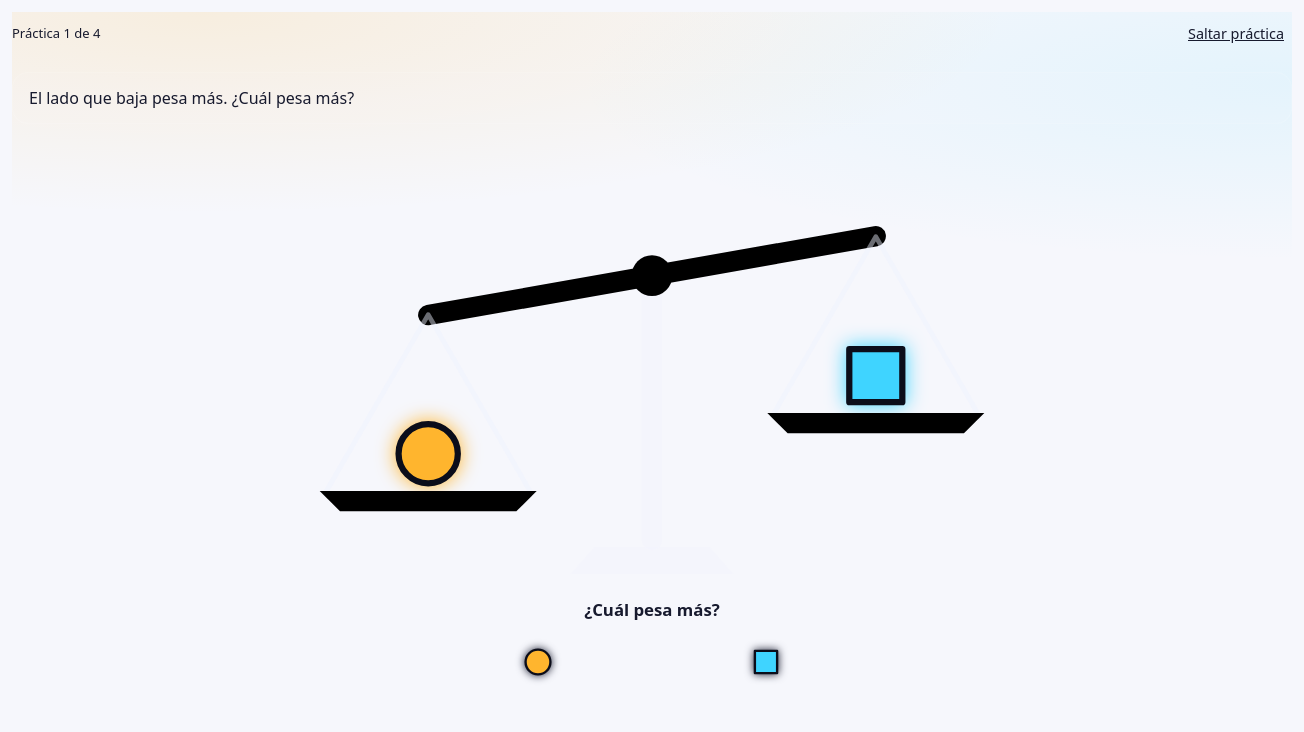
Test: the hints of rounds 2 to 4
Click the button named "círculo ámbar" at (538, 662), box [428,632,647,692]
Wait 700 ms
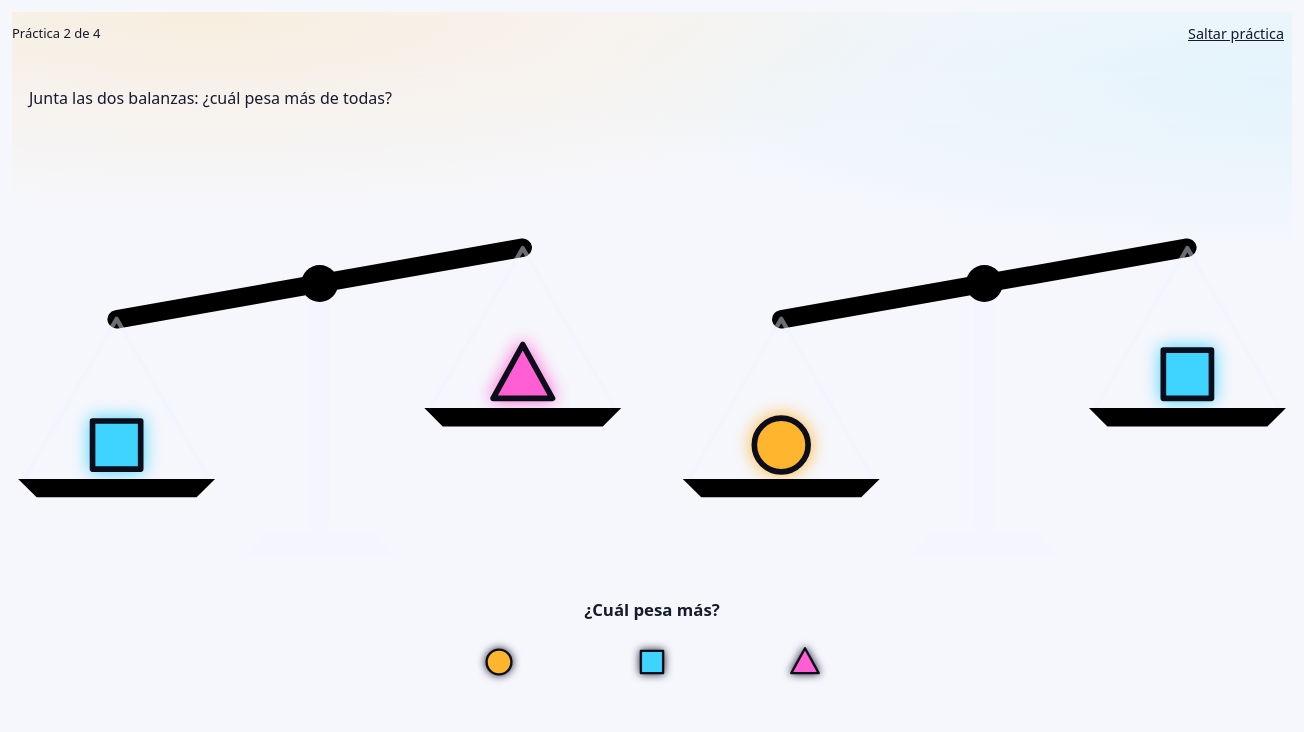
Click the button named "triángulo magenta" at (805, 662), box [733,632,876,692]
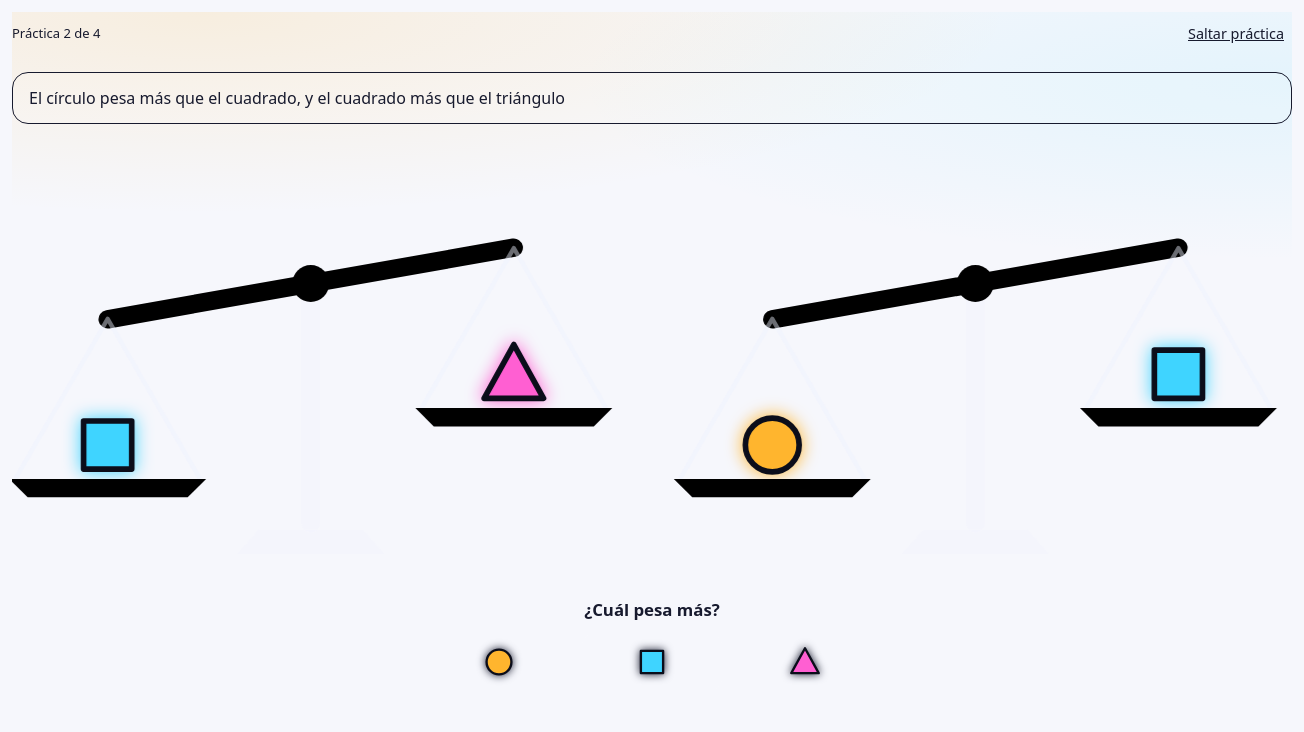
Expected: the text "El círculo pesa más que el cuadrado, y el cuadrado más que el triángulo" is shown, [12,72,1292,124]
Click the button named "círculo ámbar" at (499, 662), box [428,632,571,692]
Wait 700 ms
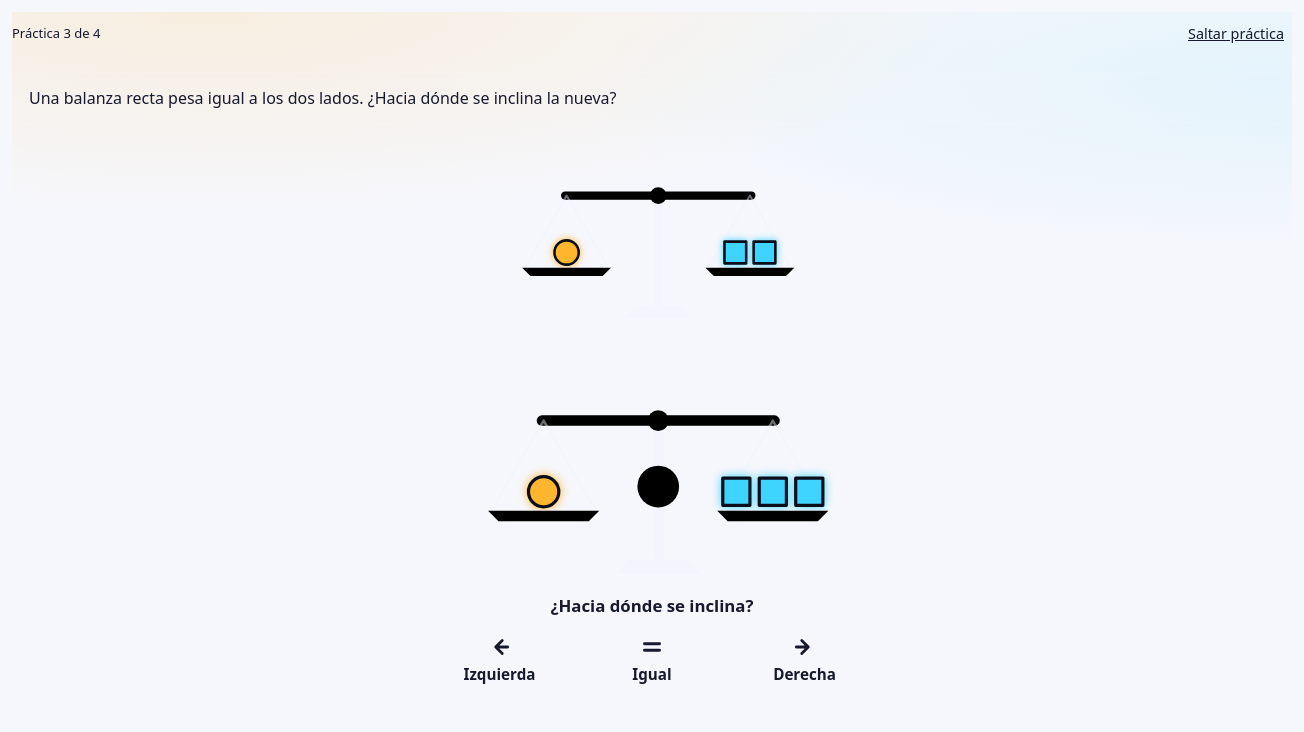
Click the button "Izquierda" at (499, 660), box [428,628,571,692]
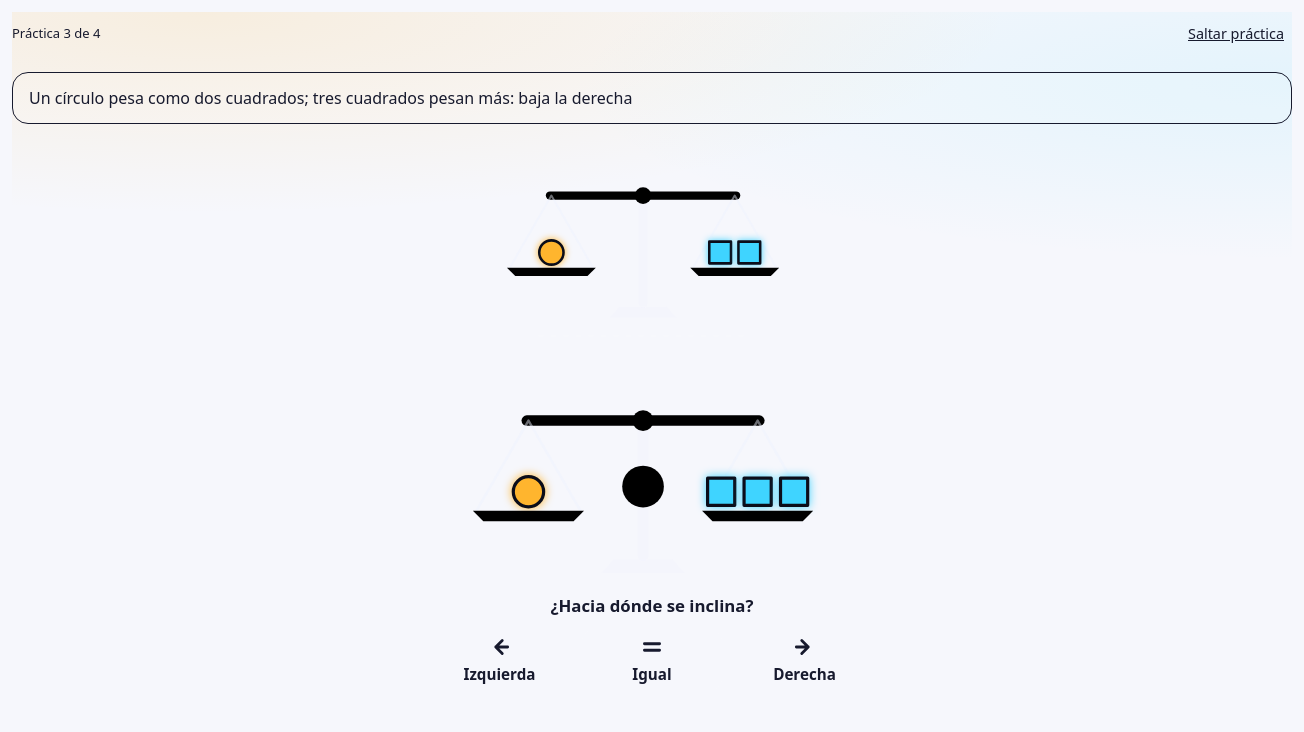
Expected: the text "Un círculo pesa como dos cuadrados; tres cuadrados pesan más: baja la derecha" is shown, [12,72,1292,124]
Click the button "Derecha" at (805, 660), box [733,628,876,692]
Wait 700 ms
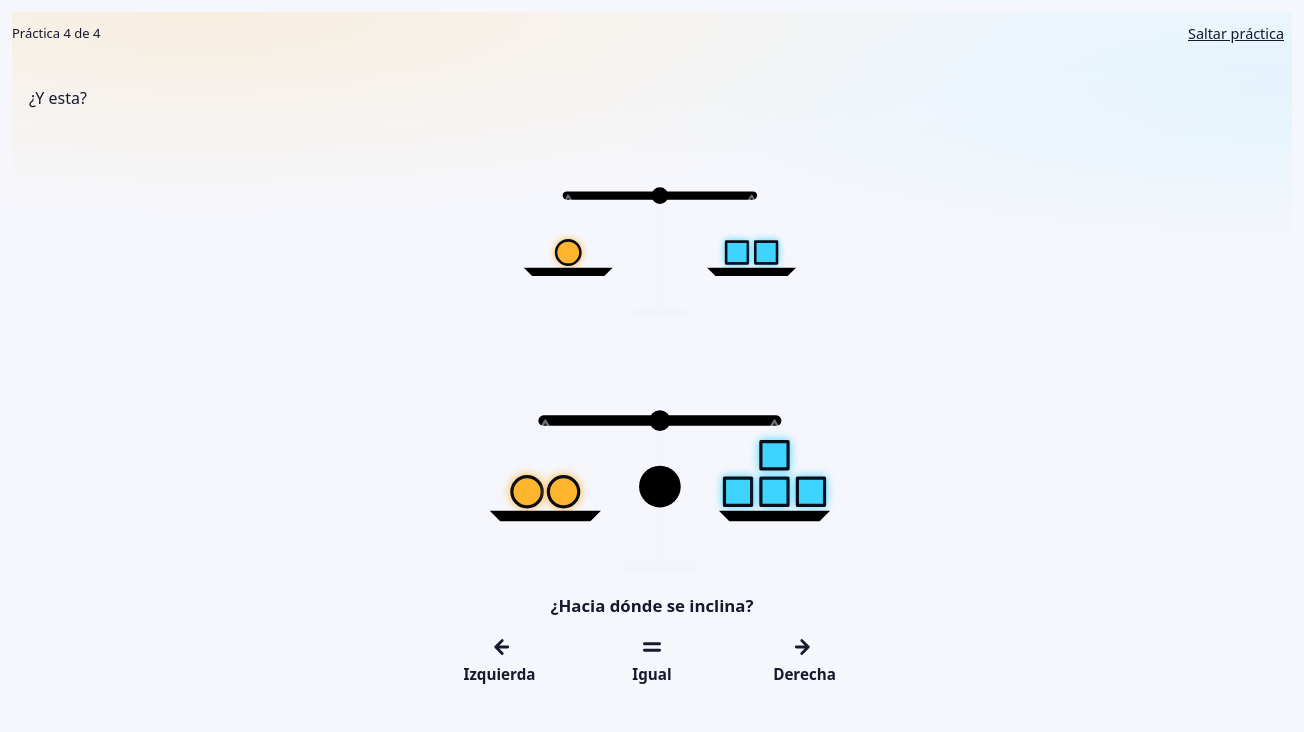
Click the button "Derecha" at (805, 660), box [733,628,876,692]
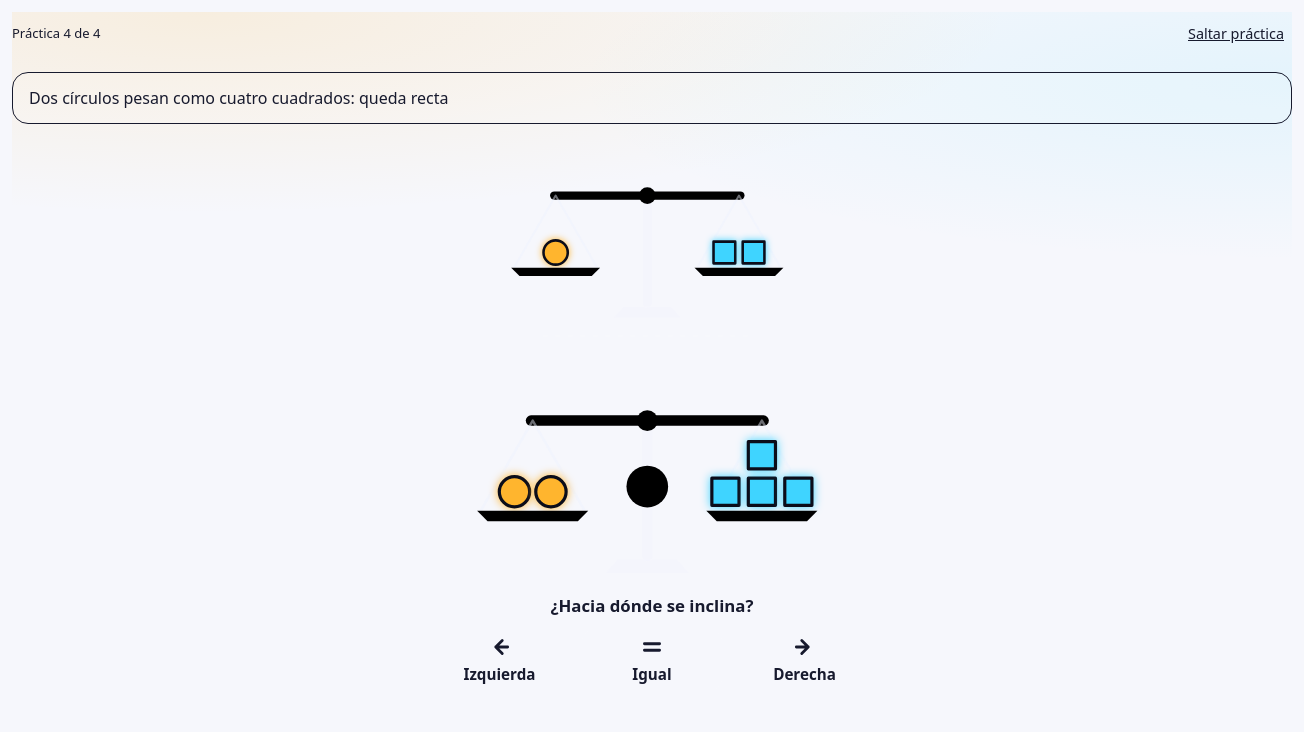
Expected: the text "Dos círculos pesan como cuatro cuadrados: queda recta" is shown, [12,72,1292,124]
